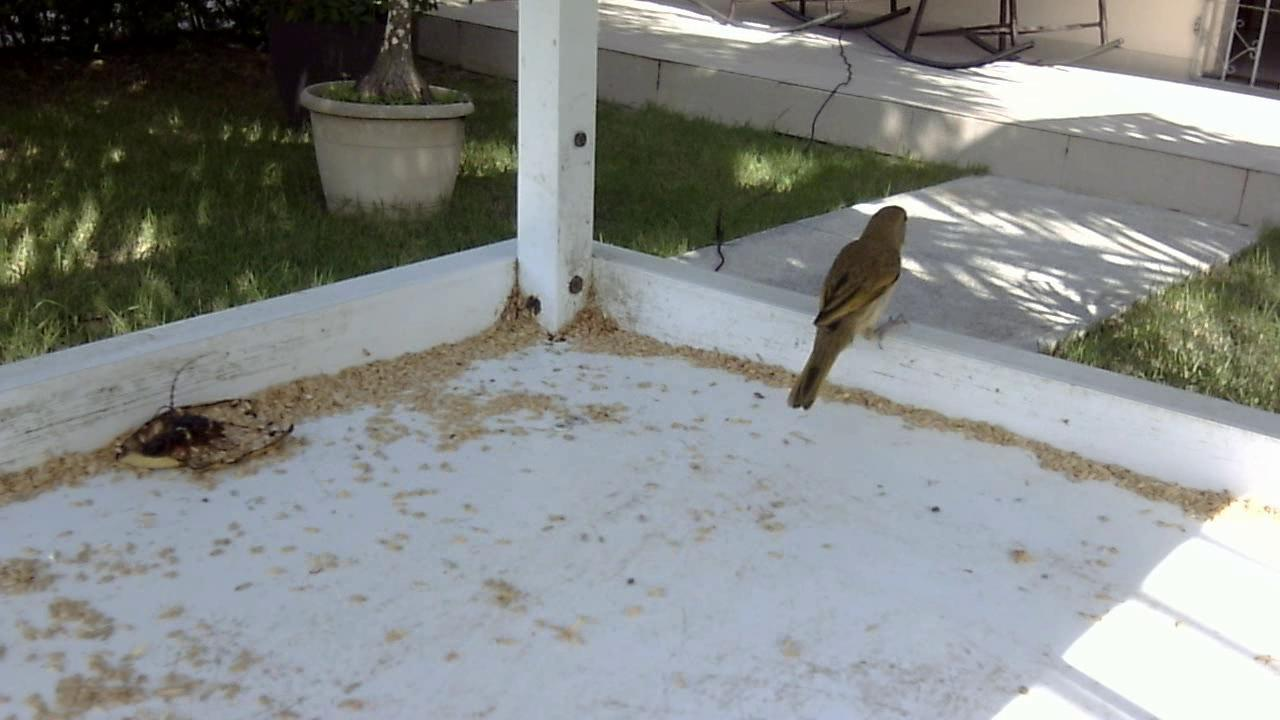canario_do_amazonas: (777, 189, 937, 417)
